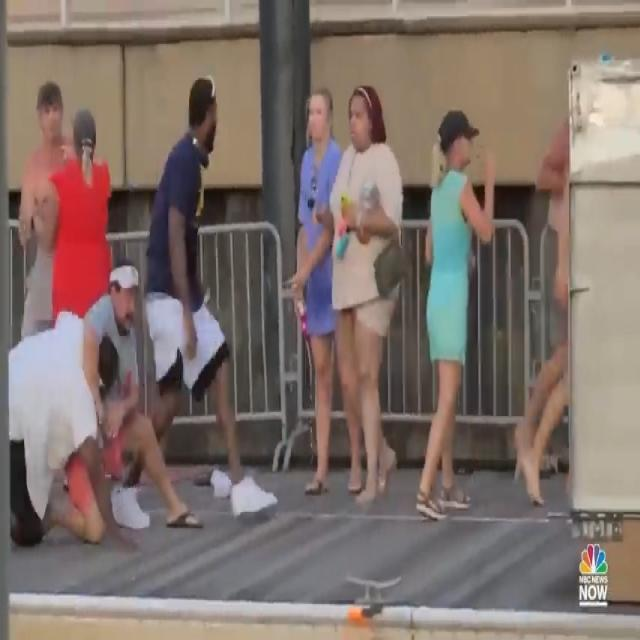fight: (9, 248, 206, 579)
